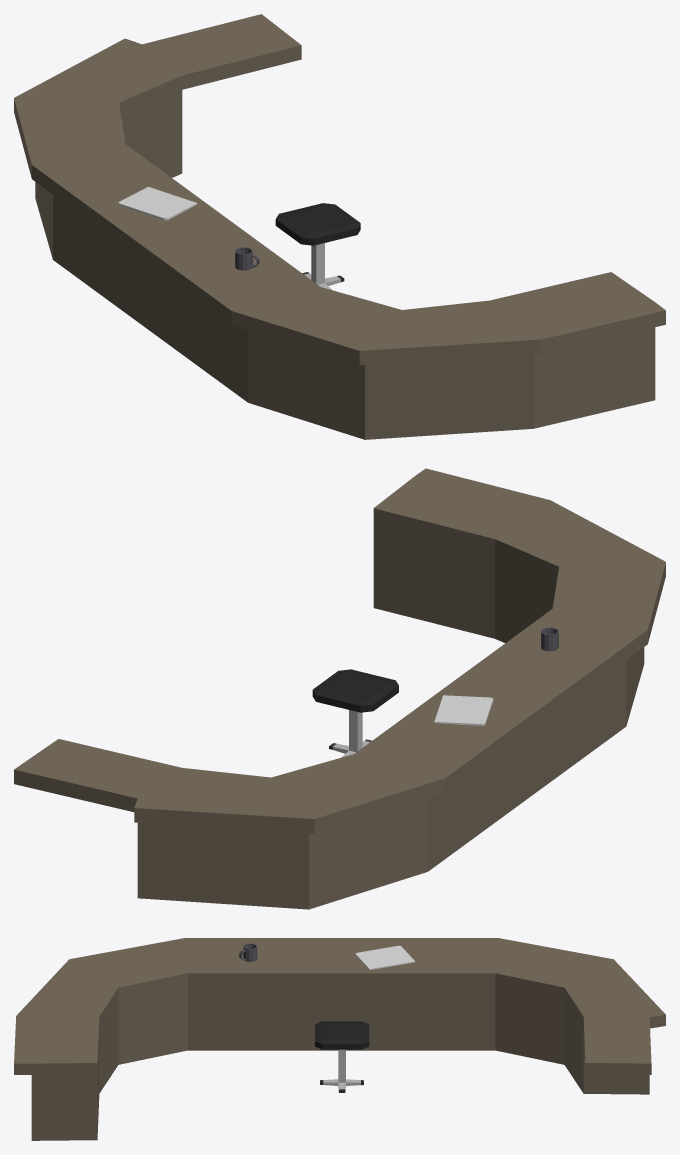
Rendered from Balcão.glb.
3 views of the same model, one above another, from view 1: azimuth 30°, elevation 25°; view 2: azimuth 150°, elevation 25°; view 3: azimuth 270°, elevation 25° (orthographic). The views are drawn at different scales.
Visible parts, largest first — view 1: Counter-convcol, Stool, Paper; view 2: Counter-convcol, Stool, Paper; view 3: Counter-convcol, Stool, Paper.
Part boxes in pixels (box(x1,y1,x2,y2)): Counter-convcol: box(14, 14, 665, 439); Stool: box(275, 203, 360, 290); Paper: box(118, 187, 197, 220); Counter-convcol: box(14, 468, 665, 909); Stool: box(312, 669, 398, 757); Paper: box(434, 695, 493, 725); Counter-convcol: box(14, 938, 665, 1140); Stool: box(315, 1021, 369, 1092); Paper: box(355, 945, 415, 969).
Size of the model in its own units: 3.49 by 1.16 by 7.65.
